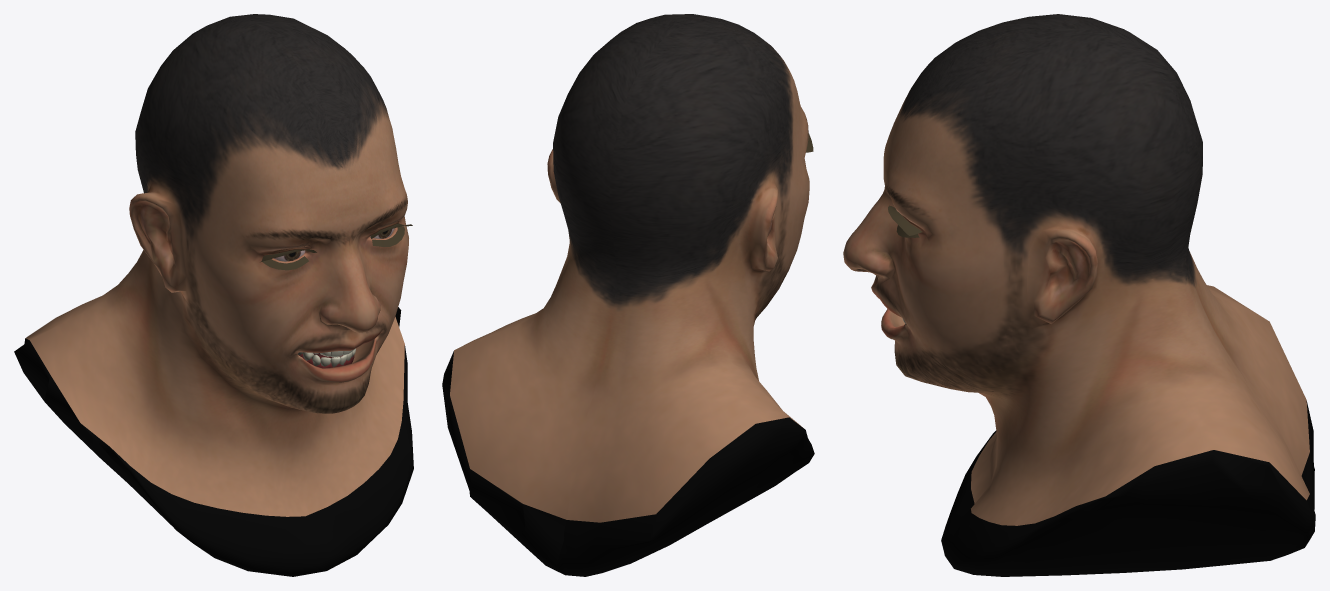
The model's file is Head_ee.obj.
3 views of the same model, side by side, from view 1: azimuth 30°, elevation 25°; view 2: azimuth 150°, elevation 25°; view 3: azimuth 270°, elevation 25° (orthographic). The views are drawn at different scales.
Parts seen in each view (by area): view 1: BodyParts; view 2: BodyParts; view 3: BodyParts.
Boxes of the visible parts, x1,y1,x2,y2 form: BodyParts: (14, 14, 413, 576); BodyParts: (442, 14, 814, 576); BodyParts: (843, 14, 1315, 576).
Size of the model in its own units: 27.78 by 38.23 by 30.66.
Materials: 2 (2 with a texture image).
